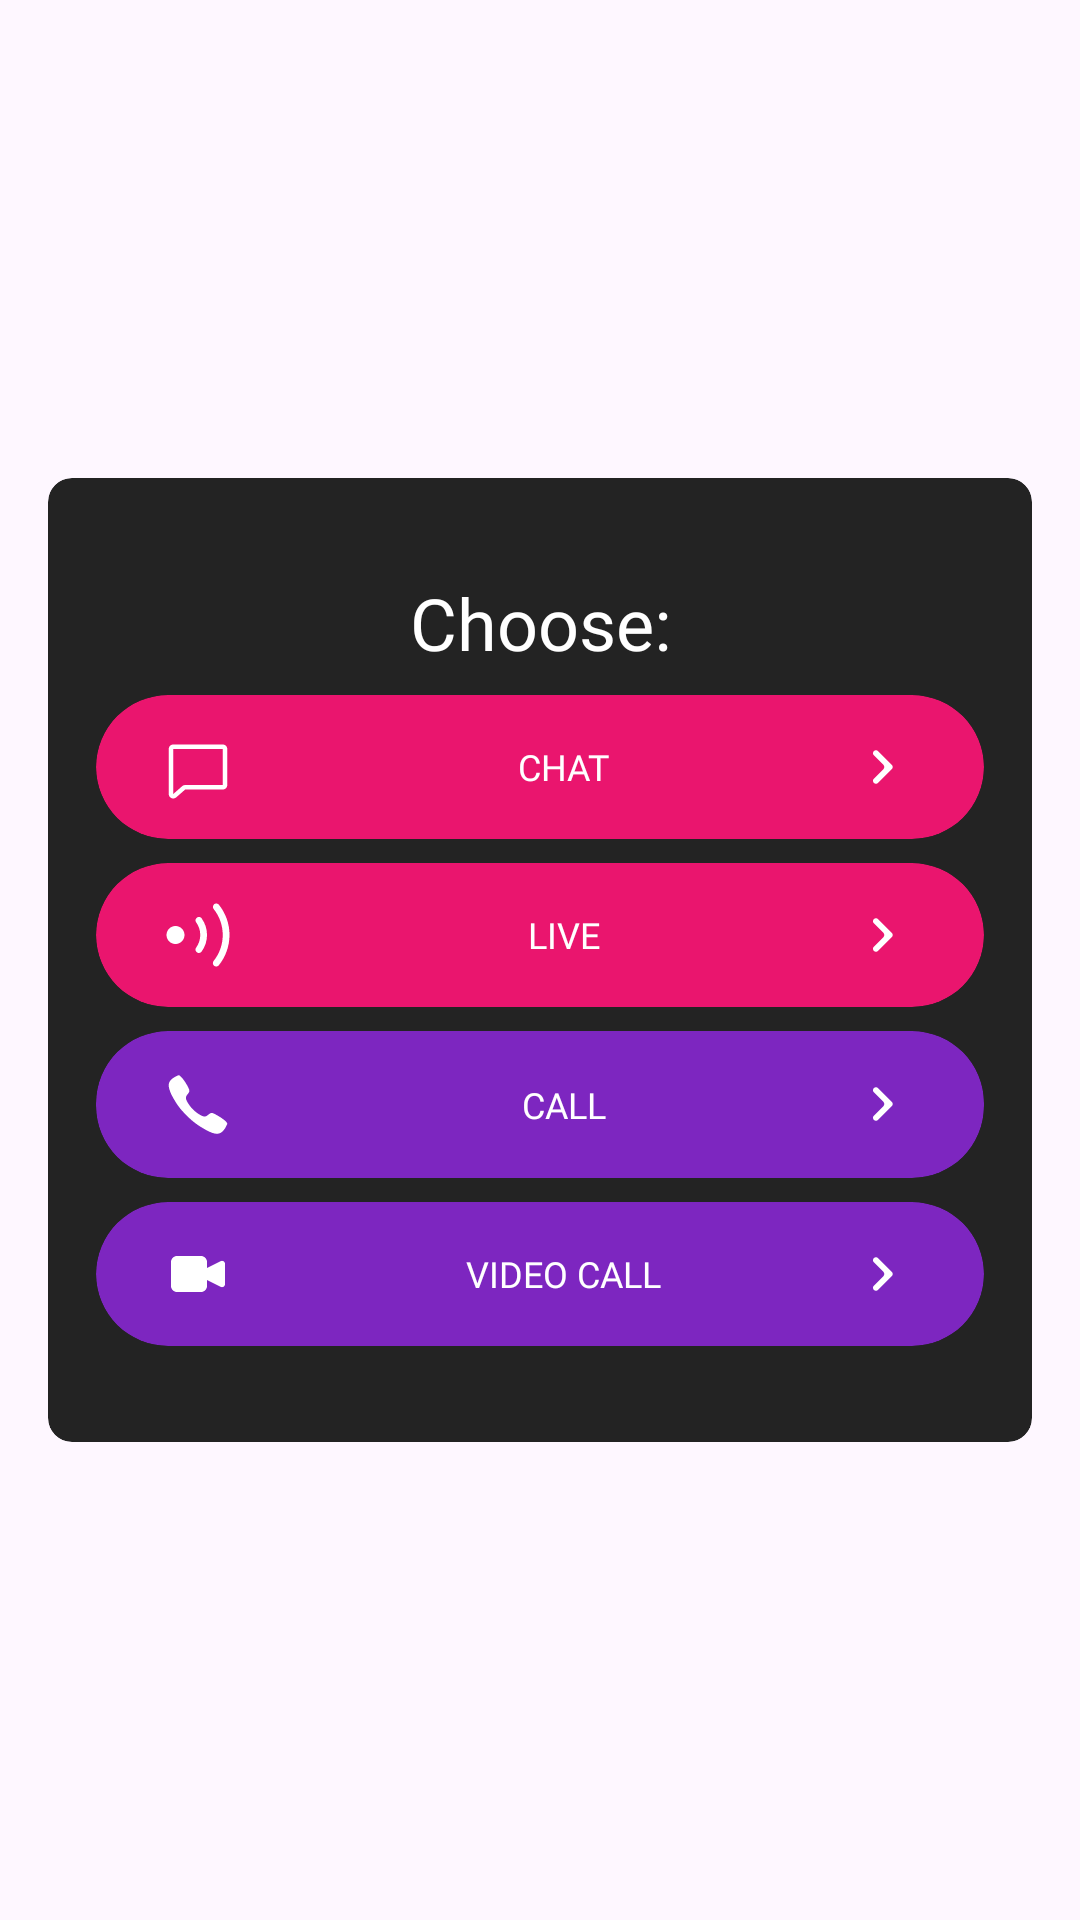

Named icons in this screenshot (1080×1920) and their centers, (x,y):
call: (198,1104)
chat: (198,771)
live: (198,935)
video call: (198,1274)
